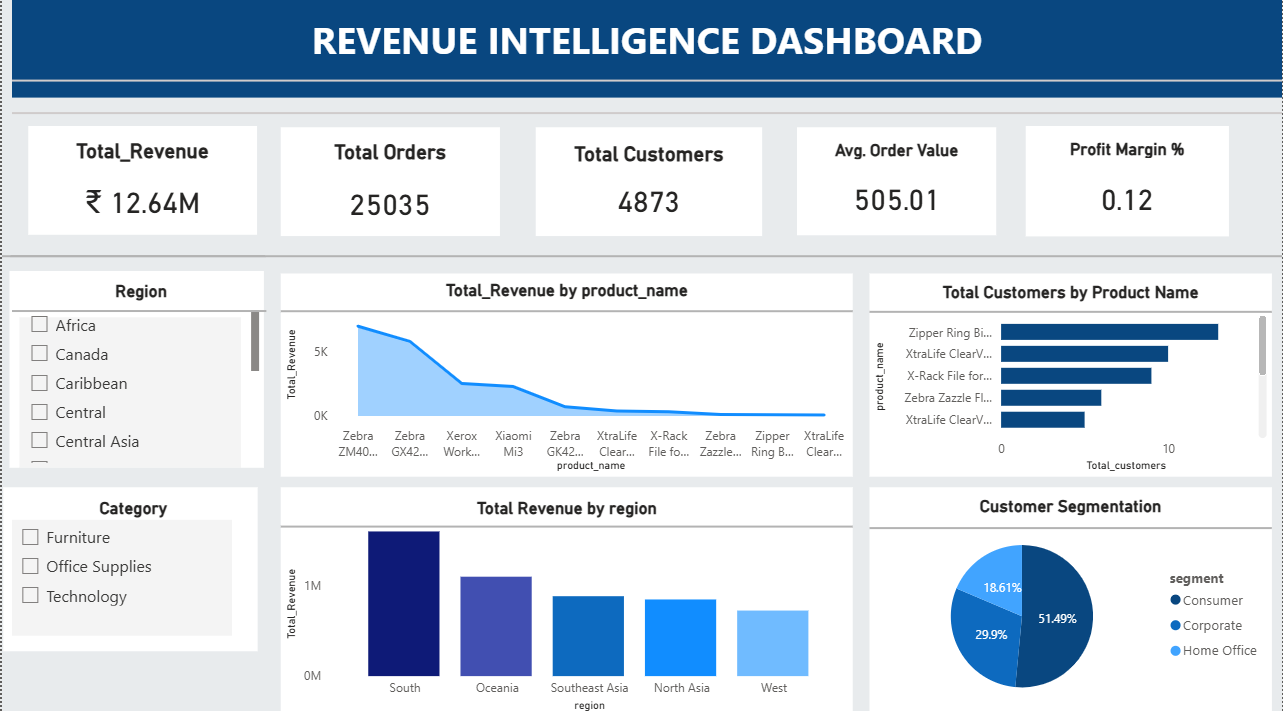

Layout of this report page (visuals, bound fields, positions):
{"tool":"powerbi","page":{"name":"Page 1","canvas":[1280,720],"ordinal":0},"visuals":[{"type":"textbox","box":[9.8,0,1270.5,101.5],"z":0},{"type":"shape","box":[9.8,9.8,1270.5,149.2],"z":1000},{"type":"shape","box":[9.8,42.8,1270.5,149.2],"z":2000},{"type":"card","title":"Total_Revenue","fields":{"Values":["cleaned_superstore.Total_Revenue"]},"box":[25.7,129.6,228.7,108.8],"z":3000},{"type":"card","title":"Total Orders","fields":{"Values":["cleaned_superstore.Total_Orders"]},"box":[278.8,130.8,218.9,108.8],"z":4000},{"type":"card","title":"Total Customers ","fields":{"Values":["cleaned_superstore.Total_customers"]},"box":[533.2,130.8,226.2,108.8],"z":5000},{"type":"card","title":"Avg. Order Value","fields":{"Values":["cleaned_superstore.AVG_OV"]},"box":[794.8,130.8,199.3,107.6],"z":6000},{"type":"card","title":"Profit Margin %","fields":{"Values":["Calendar.Profit Margin %"]},"box":[1023.5,129.6,203,110.1],"z":7000},{"type":"shape","box":[0,184.6,1280.3,150.4],"z":8000},{"type":"columnChart","title":"Total Revenue by region","fields":{"Category":["cleaned_superstore.region"],"Y":["cleaned_superstore.Total_Revenue"]},"box":[278.8,491.6,572.3,228.7],"z":9000},{"type":"shape","box":[278.8,457.3,572.3,149.2],"z":10000},{"type":"areaChart","fields":{"Category":["cleaned_superstore.product_name"],"Y":["cleaned_superstore.Total_Revenue"]},"box":[278.8,277.6,572.3,203],"z":11000},{"type":"shape","box":[278.8,239.7,572.3,150.4],"z":12000},{"type":"clusteredBarChart","title":"Total Customers by Product Name","fields":{"Y":["cleaned_superstore.Total_customers"],"Category":["cleaned_superstore.product_name"]},"box":[867,277.6,402.3,203],"z":13000},{"type":"shape","box":[867,240.9,402.3,149.2],"z":14000},{"type":"pieChart","title":"Customer Segmentation","fields":{"Category":["cleaned_superstore.segment"],"Y":["Count(cleaned_superstore.customer_id)"]},"box":[867,491.6,402.3,229],"z":15000},{"type":"shape","box":[867,457.3,402.3,149.2],"z":16000},{"type":"slicer","title":"Region","fields":{"Values":["cleaned_superstore.region"]},"box":[7.3,275.1,254.3,196.9],"z":18000},{"type":"shape","box":[17.1,321.6,221.3,150.4],"z":18500},{"type":"shape","box":[8.3,185,254.6,150.3],"z":19000},{"type":"shape","box":[25.7,503.8,220.1,116.2],"z":20000},{"type":"slicer","title":"Category","fields":{"Values":["cleaned_superstore.category"]},"box":[1.2,491.6,254.3,163.9],"z":21000},{"type":"shape","box":[9.8,260.5,254.3,110.1],"z":22000},{"type":"shape","box":[9.8,523.4,220.1,116.2],"z":23000}]}

Visuals, with their boxes in screenshot pixels (x1, y1, x2, y2), scaled from the page's 1280x720 canvas onto the 1283x711 screenshot:
textbox: Rect(10, 0, 1282, 100)
shape: Rect(10, 10, 1282, 157)
shape: Rect(10, 42, 1282, 190)
"Total_Revenue" card: Rect(26, 128, 255, 235)
"Total Orders" card: Rect(279, 129, 499, 237)
"Total Customers " card: Rect(534, 129, 761, 237)
"Avg. Order Value" card: Rect(797, 129, 996, 235)
"Profit Margin %" card: Rect(1026, 128, 1229, 237)
shape: Rect(0, 182, 1282, 331)
"Total Revenue by region" columnChart: Rect(279, 485, 853, 710)
shape: Rect(279, 452, 853, 599)
areaChart - cleaned_superstore.product_name x cleaned_superstore.Total_Revenue: Rect(279, 274, 853, 475)
shape: Rect(279, 237, 853, 385)
"Total Customers by Product Name" clusteredBarChart: Rect(869, 274, 1272, 475)
shape: Rect(869, 238, 1272, 385)
"Customer Segmentation" pieChart: Rect(869, 485, 1272, 710)
shape: Rect(869, 452, 1272, 599)
"Region" slicer: Rect(7, 272, 262, 466)
shape: Rect(17, 318, 239, 466)
shape: Rect(8, 183, 264, 331)
shape: Rect(26, 498, 246, 612)
"Category" slicer: Rect(1, 485, 256, 647)
shape: Rect(10, 257, 265, 366)
shape: Rect(10, 517, 230, 632)
